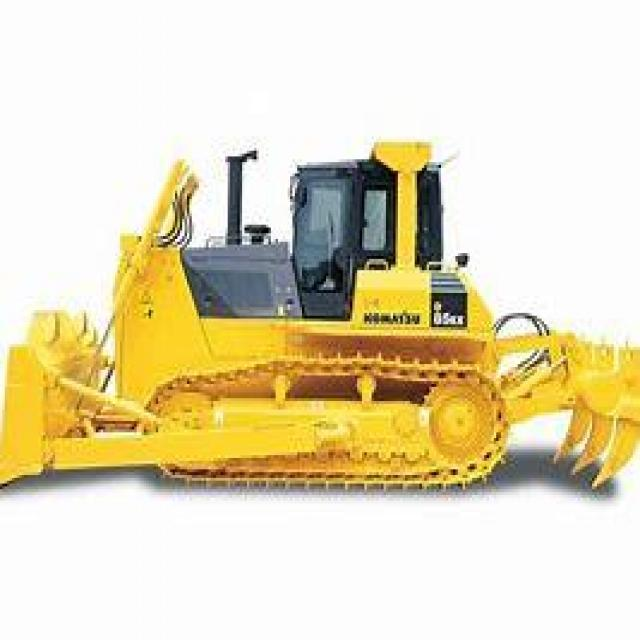Bulldozer: (5, 111, 638, 509)
